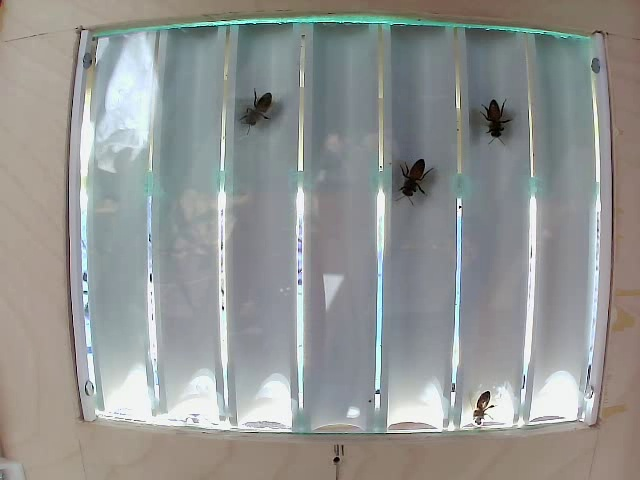bee: (390, 142, 444, 201), (465, 92, 511, 159), (232, 87, 280, 142)
